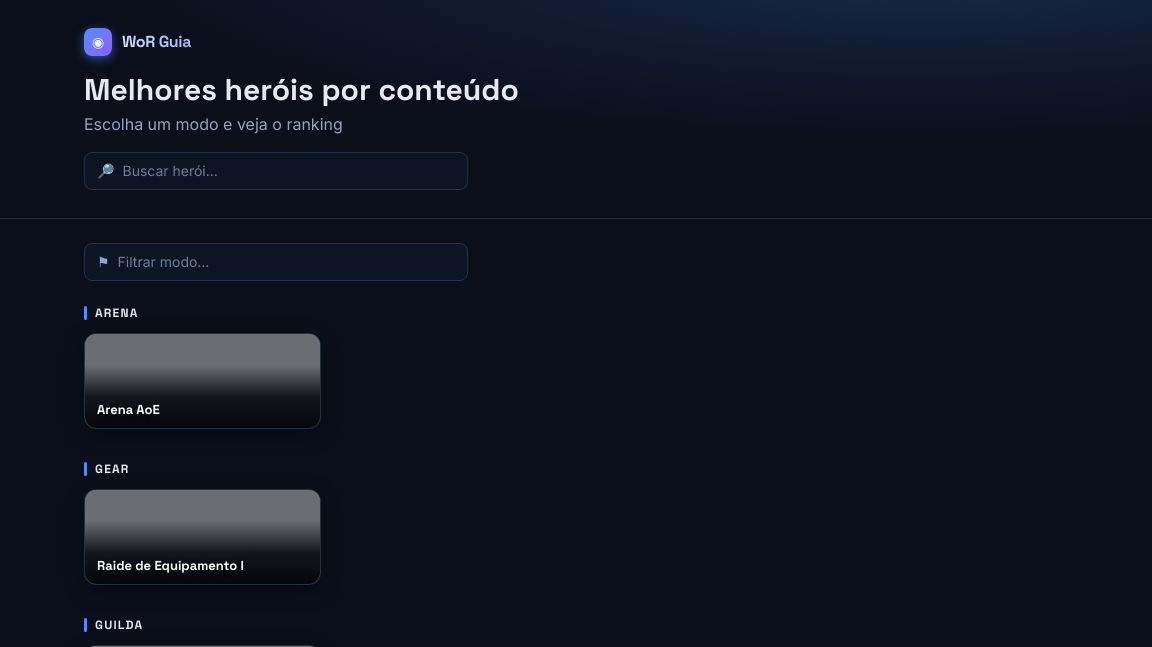
Test: IndexPage › a busca filtra os cards
The image size is (1152, 647).
Type "guilda" into the field labelled "Filtrar modo" at (286, 262), box [118,252,455,272]
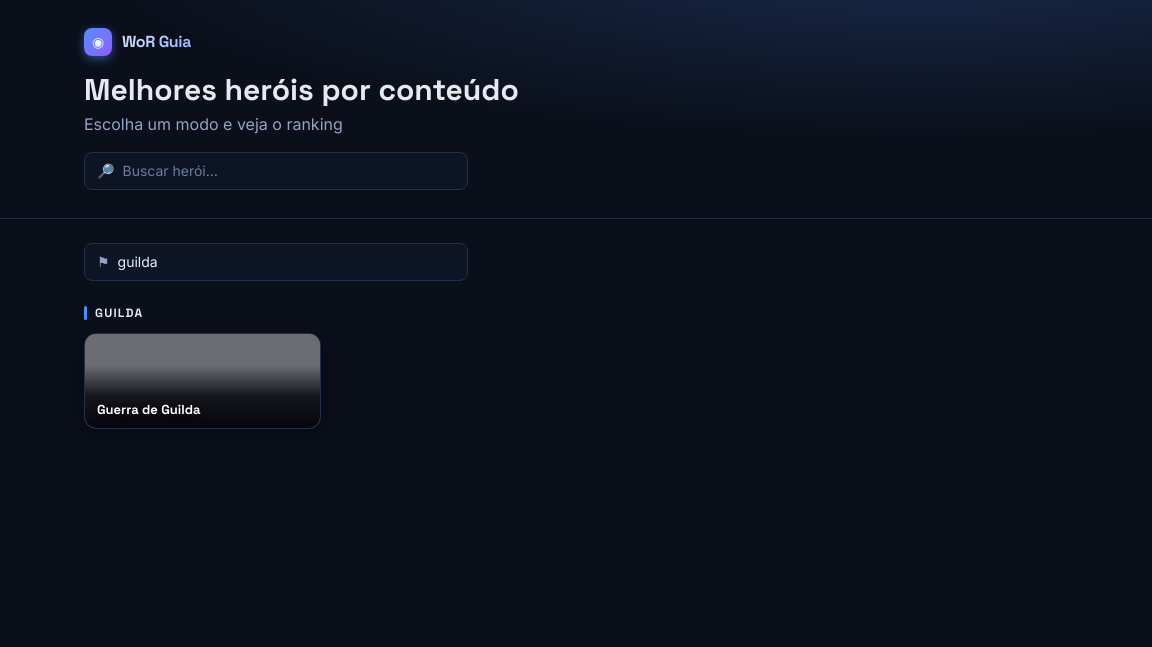
Expected: the text "Guerra de Guilda" is shown, [97,401,200,418]
Result: the link "Raide de Equipamento I" is gone
Result: the heading "Gear" is gone
